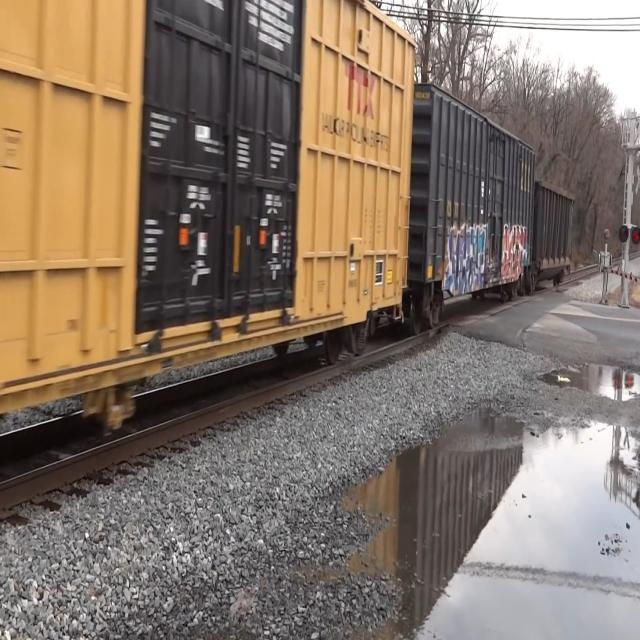boxcar: (3, 0, 426, 424), (410, 70, 534, 328)
gondola: (537, 178, 581, 291)
